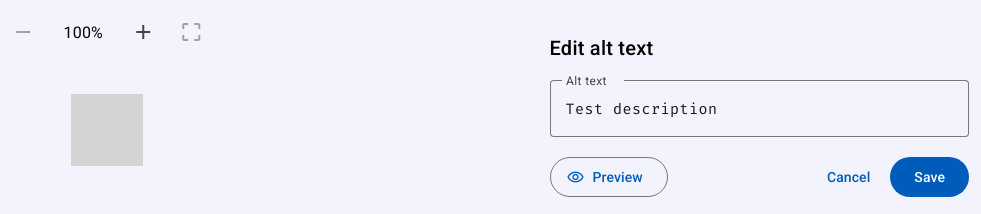
Test: EditDescriptionDialogComponent › renders and highlights edited TEI when preview is toggled, then restores the editor
Replace the text in the text box labelled "Alt text" with "<body><p>Edited transcription</p></body>" at (759, 109), box [566,97,953,121]
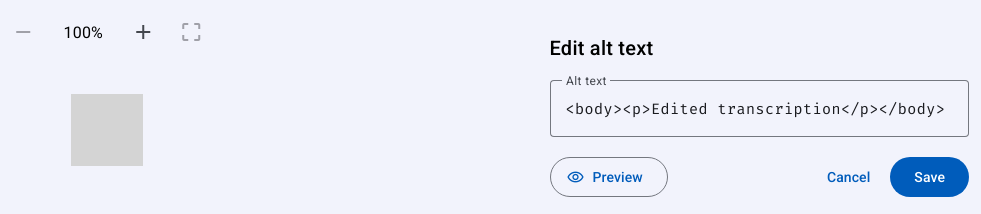
Click the button with class "toggle-preview-button" at (609, 177), box [550,157,668,197]
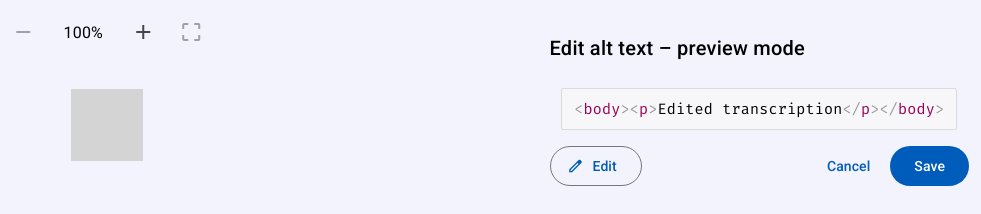
Expected: the element with class "tag" showing "<body>" is shown, [574,99,630,119]
Expected: the text box is gone
Click the button with class "toggle-preview-button" at (596, 166), box [550,146,642,186]
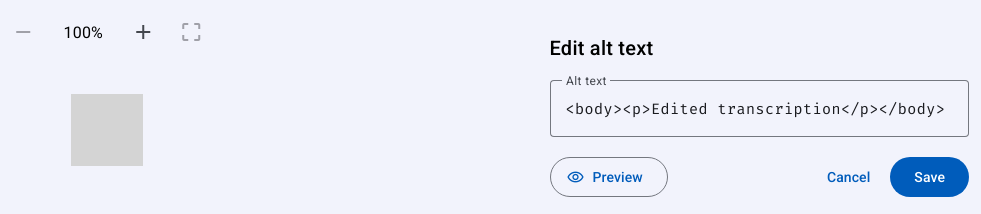
Expected: the text box labelled "Alt text" holds "<body><p>Edited transcription</p></body>", [566,97,953,121]
